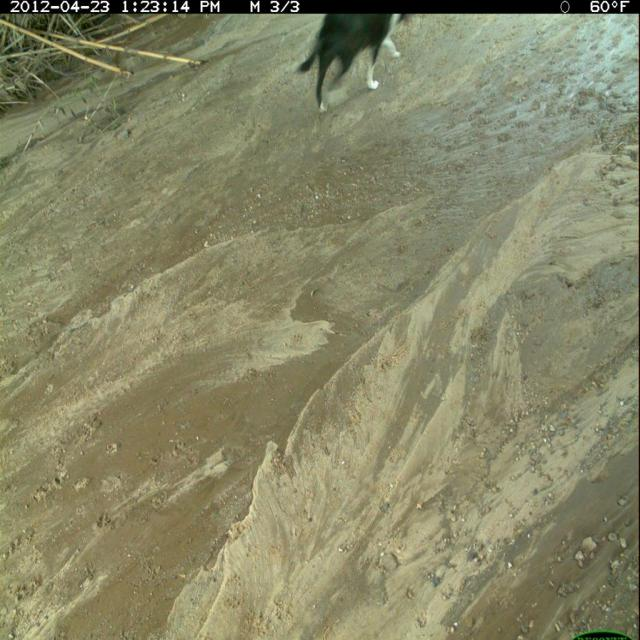dog: (295, 11, 417, 121)
